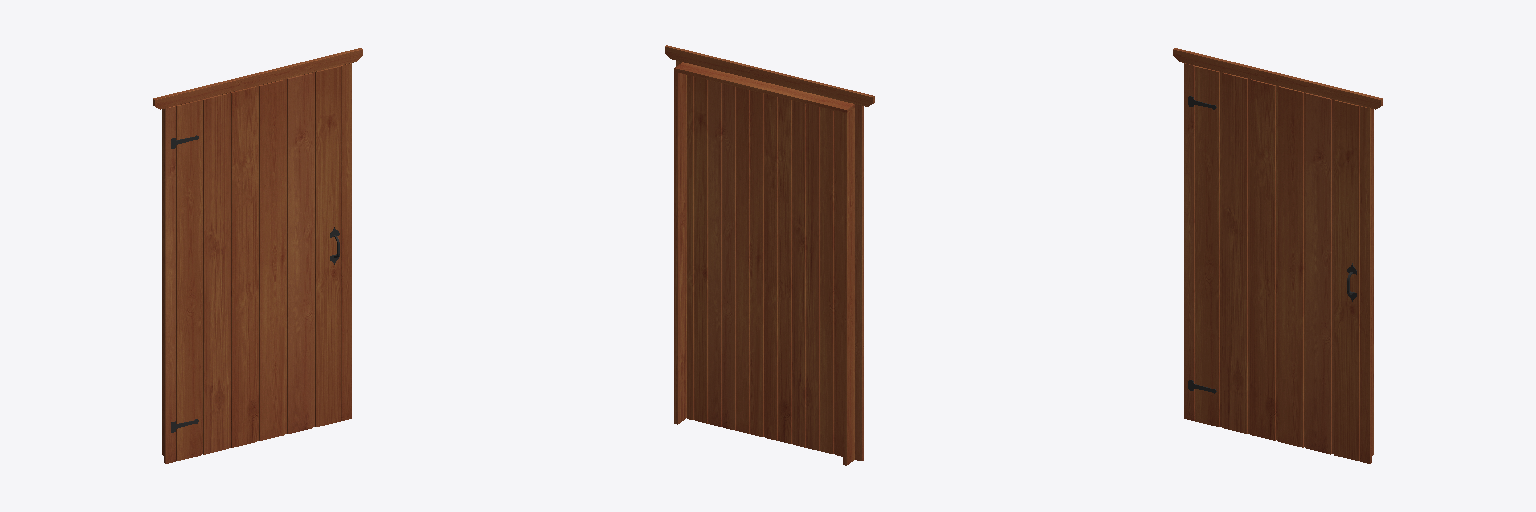
3 views of the same model, side by side, from view 1: azimuth 30°, elevation 25°; view 2: azimuth 150°, elevation 25°; view 3: azimuth 330°, elevation 25° (orthographic).
Parts seen in each view (by area): view 1: plank003, plank002, plank005, plank004, plank001, plank006, trim_left, trim_right, trim_top, box_left; view 2: plank005, plank002, plank004, plank003, plank001, plank006, box_left, box_right, trim_left, trim_top, box_top; view 3: plank004, plank005, plank002, plank003, plank001, plank006, trim_right, trim_left, trim_top, box_right.
Boxes of the visible parts, box(x1,y1,x2,y2) form: plank003: box(231, 86, 258, 447); plank002: box(203, 93, 230, 454); plank005: box(287, 72, 314, 433); plank004: box(259, 79, 286, 440); plank001: box(176, 99, 202, 460); plank006: box(315, 66, 340, 426); trim_left: box(164, 106, 175, 463); trim_right: box(341, 63, 351, 420); trim_top: box(153, 48, 362, 109); box_left: box(162, 109, 163, 455); plank005: box(708, 80, 735, 430); plank002: box(792, 101, 819, 450); plank004: box(736, 87, 763, 436); plank003: box(764, 94, 791, 443); plank001: box(820, 107, 842, 456); plank006: box(687, 75, 707, 423); box_left: box(843, 108, 854, 465); box_right: box(674, 72, 685, 424); trim_left: box(855, 104, 863, 460); trim_top: box(665, 45, 874, 106); box_top: box(674, 62, 854, 113); plank004: box(1278, 86, 1305, 447); plank005: box(1306, 93, 1333, 454); plank002: box(1222, 73, 1250, 433); plank003: box(1250, 79, 1278, 440); plank001: box(1195, 66, 1222, 426); plank006: box(1334, 100, 1359, 460); trim_right: box(1360, 106, 1371, 463); trim_left: box(1184, 63, 1194, 420); trim_top: box(1173, 48, 1382, 109); box_right: box(1372, 109, 1373, 455).
Bounding box in the file's own units: 44.12 × 74.25 × 5.41.
9 materials, 8 textured.